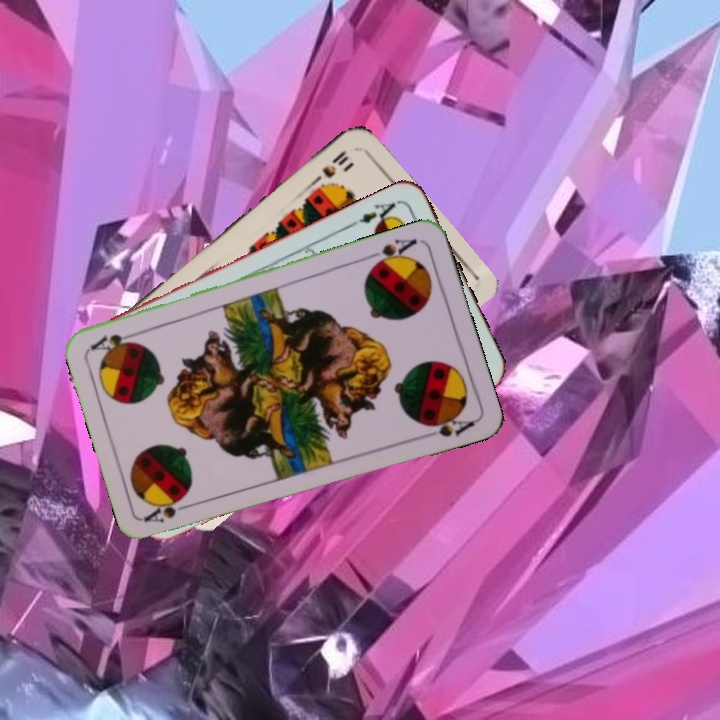EA: (346, 197, 402, 231)
S10: (309, 146, 351, 187)
SA: (364, 234, 420, 271), (141, 496, 199, 526)
